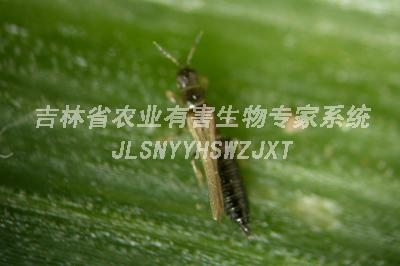pest: (175, 68, 260, 235)
